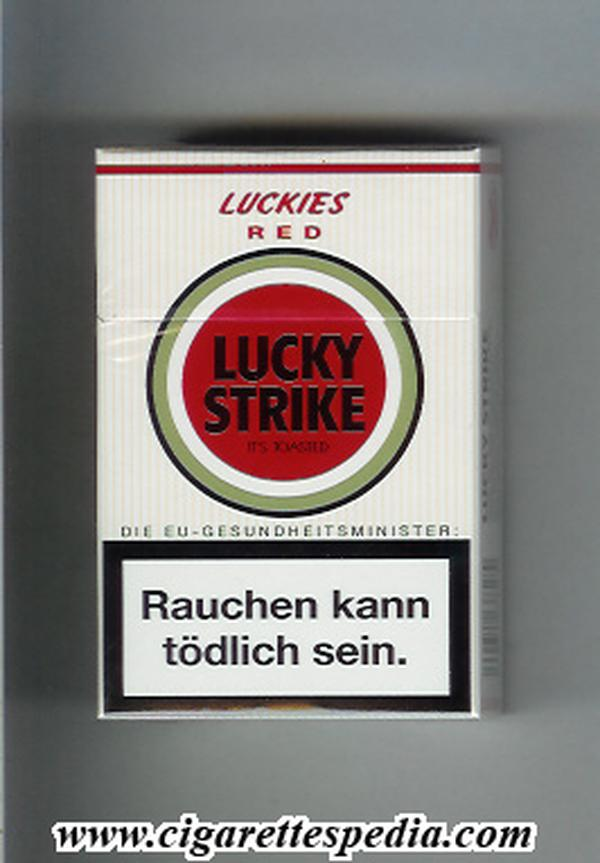lucky_strike_red: (96, 157, 474, 719)
